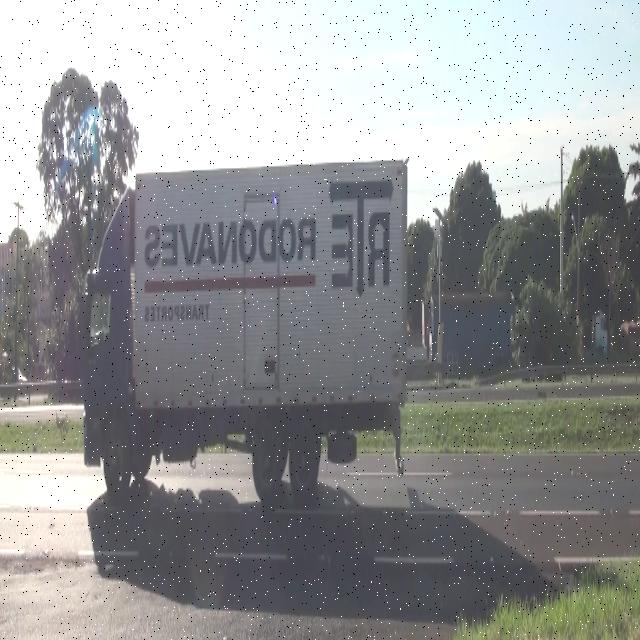-axle: (253, 420, 286, 502), (100, 413, 132, 497), (291, 419, 320, 504)
